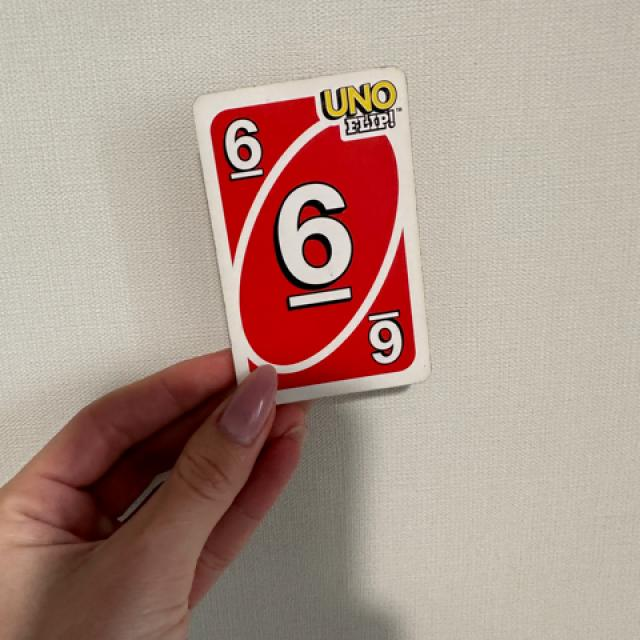lred-6: (210, 105, 280, 183)
